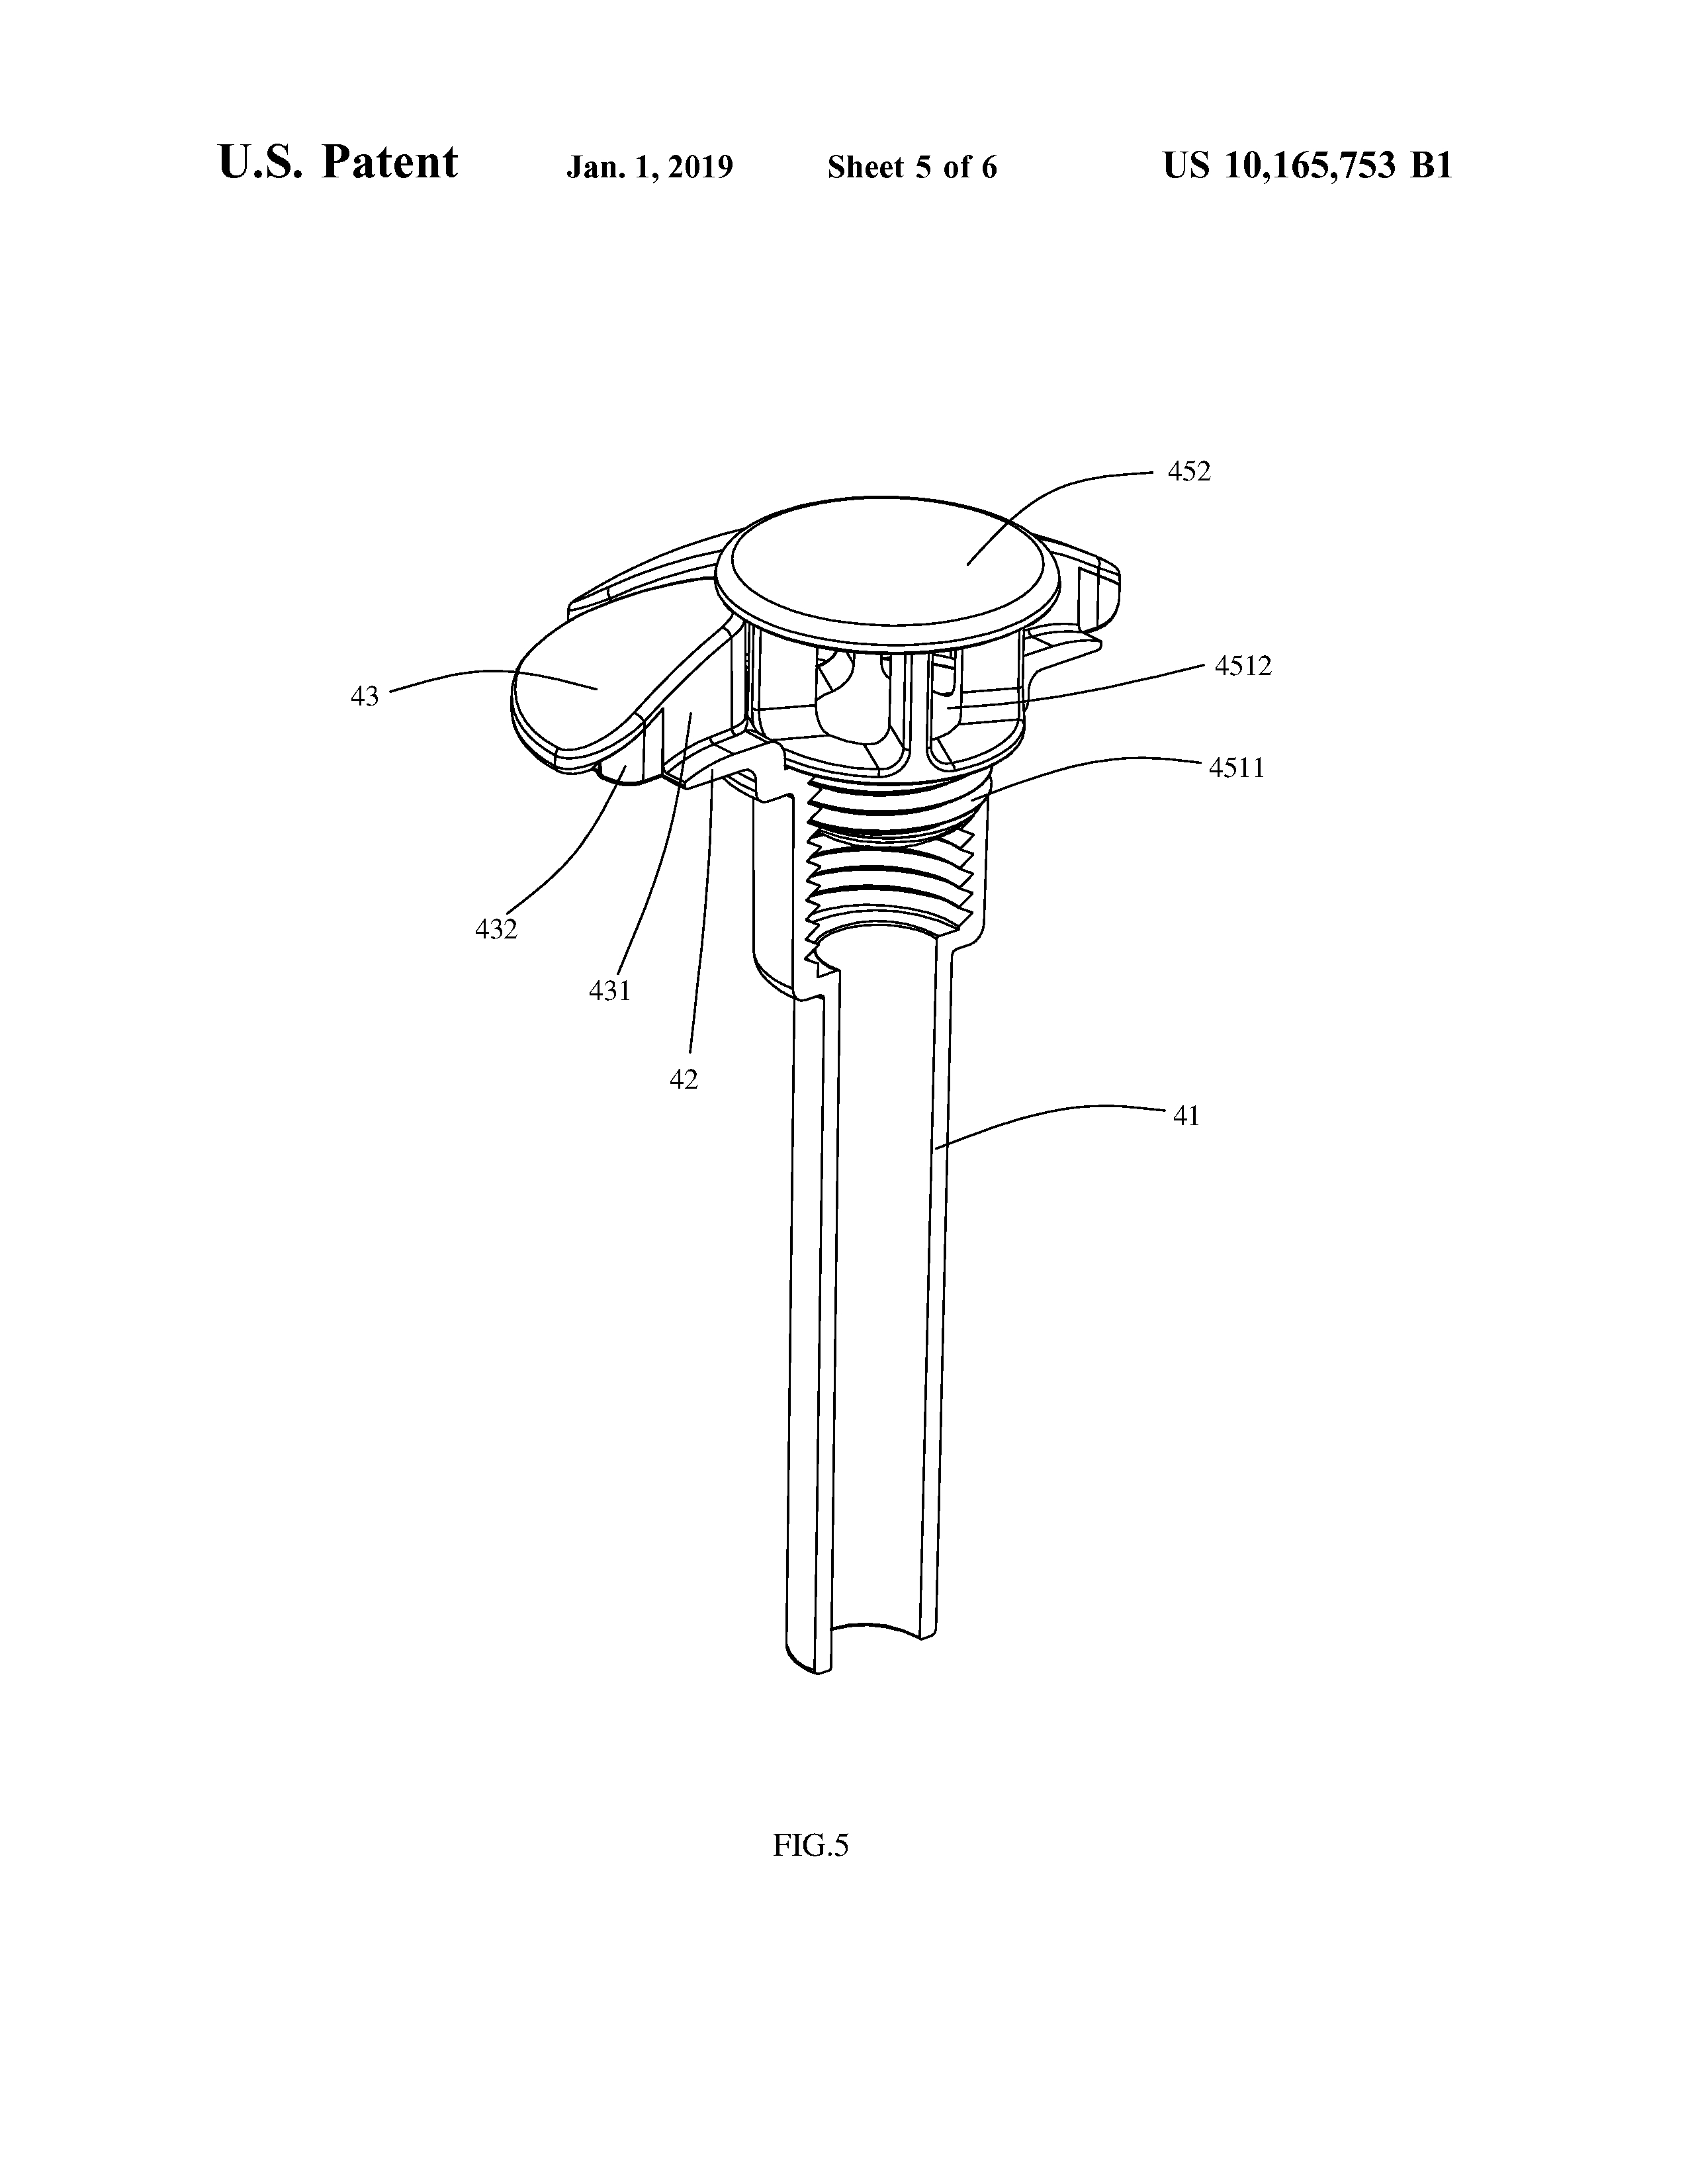patent image: (286, 414, 1312, 1894)
